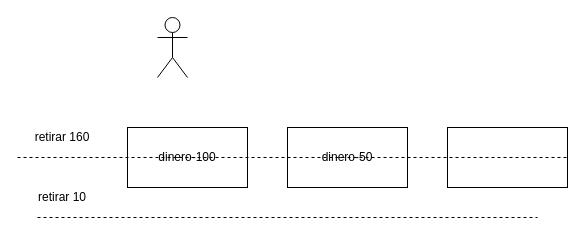
Image size: 586x236. Some labels were removed from this diagram. The centre of each missing label's shape, as x and y in pixels:
"Cajero" goes at [172,47].
"dinero-10" goes at [507,157].
